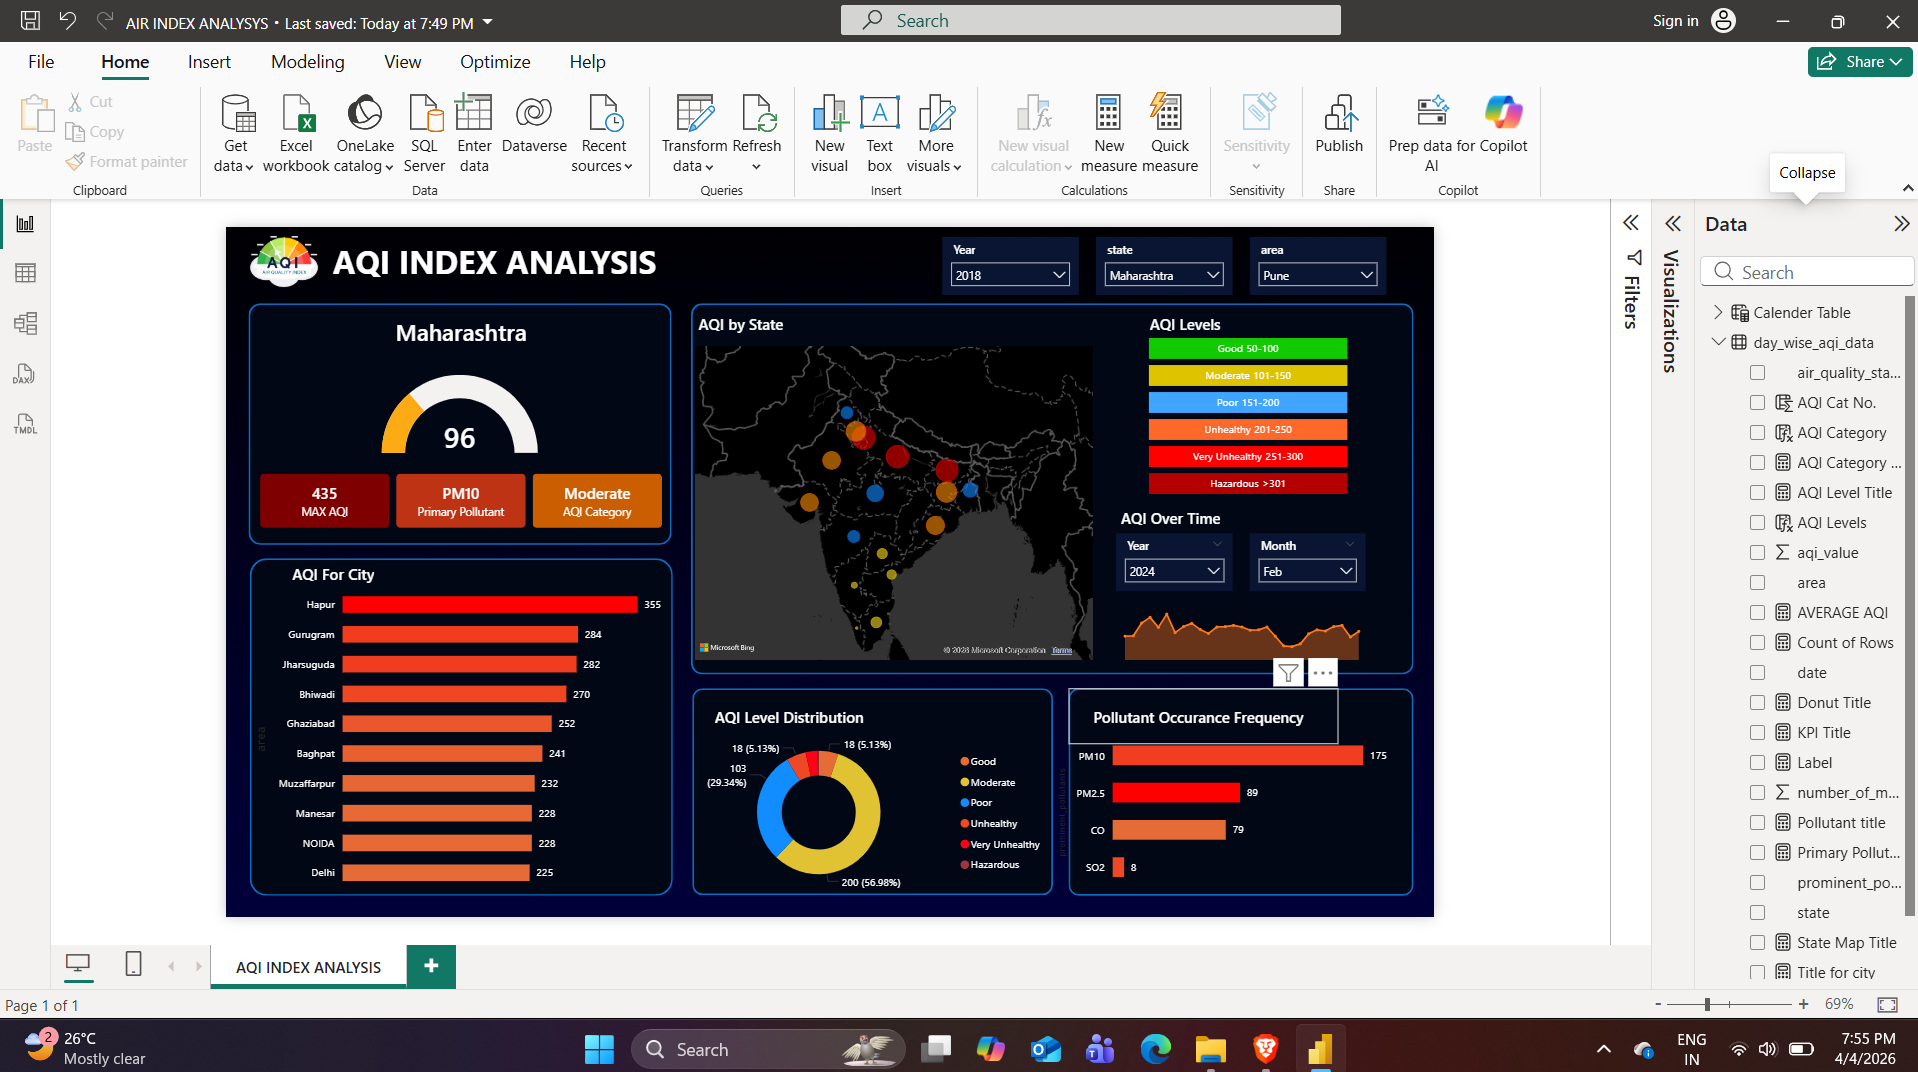

Layout of this report page (visuals, bound fields, positions):
{"tool":"powerbi","page":{"name":"AQI INDEX ANALYSIS","canvas":[1400,800],"ordinal":0},"visuals":[{"type":"shape","box":[26.8,88.5,490.6,280.2],"z":0},{"type":"textbox","box":[118.8,10.1,391.3,62.3],"z":1000},{"type":"gauge","fields":{"Y":["day_wise_aqi_data.AVG Aqi"]},"box":[122,166.2,298.9,100.5],"z":2000},{"type":"slicer","fields":{"Values":["Calender Table.Year"]},"box":[831.1,12.1,158.2,67],"z":3000},{"type":"slicer","fields":{"Values":["day_wise_aqi_data.state"]},"box":[1009.4,12.1,158.2,67],"z":4000},{"type":"slicer","fields":{"Values":["day_wise_aqi_data.area"]},"box":[1186.3,12.1,158.2,67],"z":5000},{"type":"cardVisual","fields":{"Data":["Max(day_wise_aqi_data.aqi_value)","day_wise_aqi_data.Primary Pollutant","day_wise_aqi_data.AQI Category KPI"]},"box":[33.5,280.2,478.6,75.1],"z":6000},{"type":"cardVisual","fields":{"Data":["day_wise_aqi_data.KPI Title"]},"box":[28.2,88.5,490.6,64.3],"z":7000},{"type":"shape","box":[538.9,88.5,837.8,430.3],"z":8000},{"type":"map","fields":{"Category":["day_wise_aqi_data.state"],"Size":["day_wise_aqi_data.AVERAGE AQI"]},"box":[538.8,133.6,471.3,373.7],"z":9000},{"type":"cardVisual","fields":{"Data":["day_wise_aqi_data.State Map Title"]},"box":[518.8,79.1,490.6,64.3],"z":10000},{"type":"barChart","fields":{"Category":["day_wise_aqi_data.AQI Category"],"Y":["day_wise_aqi_data.Label"]},"box":[1065.6,115.6,240.1,199.6],"z":11000},{"type":"cardVisual","fields":{"Data":["day_wise_aqi_data.AQI Level Title"]},"box":[958.5,366,277.5,33.5],"z":12000},{"type":"areaChart","fields":{"Category":["Calender Table.Date.Variation.Date Hierarchy.Day"],"Y":["day_wise_aqi_data.AVERAGE AQI"]},"box":[1026.8,416.9,320.4,89.8],"z":13000},{"type":"slicer","fields":{"Values":["Calender Table.Date.Variation.Date Hierarchy.Year"]},"box":[1032.2,355.2,135.4,67],"z":14000},{"type":"slicer","fields":{"Values":["Calender Table.Month"]},"box":[1186.3,355.2,134,67],"z":15000},{"type":"cardVisual","fields":{"Data":["day_wise_aqi_data.AQI Level Title"]},"box":[1041.6,79.1,357.9,64.3],"z":16000},{"type":"cardVisual","fields":{"Data":["day_wise_aqi_data.TiTle For Monthly Chart"]},"box":[1009.4,304.3,390.1,64.3],"z":17000},{"type":"shape","box":[28.2,383.4,490.6,391.4],"z":18000},{"type":"barChart","fields":{"Category":["day_wise_aqi_data.area"],"Y":["day_wise_aqi_data.AVERAGE AQI"]},"box":[27,400.7,483.3,376.7],"z":19000},{"type":"cardVisual","fields":{"Data":["day_wise_aqi_data.Title for city"]},"box":[48,369.2,490.8,64.5],"z":20000},{"type":"shape","box":[540.2,534.9,418.2,239.9],"z":21000},{"type":"donutChart","fields":{"Category":["day_wise_aqi_data.AQI Category"],"Y":["day_wise_aqi_data.Count of Rows"]},"box":[518.8,579.7,439.1,198.6],"z":22000},{"type":"cardVisual","fields":{"Data":["day_wise_aqi_data.Donut Title"]},"box":[537.7,534.8,313,65.2],"z":23000},{"type":"shape","box":[976.8,534.8,400,240.6],"z":24000},{"type":"barChart","fields":{"Y":["day_wise_aqi_data.Count of Rows"],"Category":["day_wise_aqi_data.prominent_pollutants"]},"box":[959.4,571,392.8,207.2],"z":25000},{"type":"cardVisual","fields":{"Data":["day_wise_aqi_data.Pollutant title"]},"box":[976.8,534.8,313,65.2],"z":25001},{"type":"image","box":[26.1,0,82.6,79.7],"z":25002}]}

Visuals, with their boxes on the page's 1400x800 design canvas (x1, y1, x2, y2). These are canvas units, not pixel positions in the 1918x1072 screenshot, which may show the page scaled, cropped or inside an application window:
shape: select_region(27, 88, 517, 369)
textbox: select_region(119, 10, 510, 72)
gauge - day_wise_aqi_data.AVG Aqi: select_region(122, 166, 421, 267)
slicer - Calender Table.Year: select_region(831, 12, 989, 79)
slicer - day_wise_aqi_data.state: select_region(1009, 12, 1168, 79)
slicer - day_wise_aqi_data.area: select_region(1186, 12, 1344, 79)
cardVisual - Max(day_wise_aqi_data.aqi_value) x day_wise_aqi_data.Primary Pollutant: select_region(34, 280, 512, 355)
cardVisual - day_wise_aqi_data.KPI Title: select_region(28, 88, 519, 153)
shape: select_region(539, 88, 1377, 519)
map - day_wise_aqi_data.state x day_wise_aqi_data.AVERAGE AQI: select_region(539, 134, 1010, 507)
cardVisual - day_wise_aqi_data.State Map Title: select_region(519, 79, 1009, 143)
barChart - day_wise_aqi_data.AQI Category x day_wise_aqi_data.Label: select_region(1066, 116, 1306, 315)
cardVisual - day_wise_aqi_data.AQI Level Title: select_region(958, 366, 1236, 400)
areaChart - Calender Table.Date.Variation.Date Hierarchy.Day x day_wise_aqi_data.AVERAGE AQI: select_region(1027, 417, 1347, 507)
slicer - Calender Table.Date.Variation.Date Hierarchy.Year: select_region(1032, 355, 1168, 422)
slicer - Calender Table.Month: select_region(1186, 355, 1320, 422)
cardVisual - day_wise_aqi_data.AQI Level Title: select_region(1042, 79, 1400, 143)
cardVisual - day_wise_aqi_data.TiTle For Monthly Chart: select_region(1009, 304, 1400, 369)
shape: select_region(28, 383, 519, 775)
barChart - day_wise_aqi_data.area x day_wise_aqi_data.AVERAGE AQI: select_region(27, 401, 510, 777)
cardVisual - day_wise_aqi_data.Title for city: select_region(48, 369, 539, 434)
shape: select_region(540, 535, 958, 775)
donutChart - day_wise_aqi_data.AQI Category x day_wise_aqi_data.Count of Rows: select_region(519, 580, 958, 778)
cardVisual - day_wise_aqi_data.Donut Title: select_region(538, 535, 851, 600)
shape: select_region(977, 535, 1377, 775)
barChart - day_wise_aqi_data.Count of Rows x day_wise_aqi_data.prominent_pollutants: select_region(959, 571, 1352, 778)
cardVisual - day_wise_aqi_data.Pollutant title: select_region(977, 535, 1290, 600)
image: select_region(26, 0, 109, 80)
